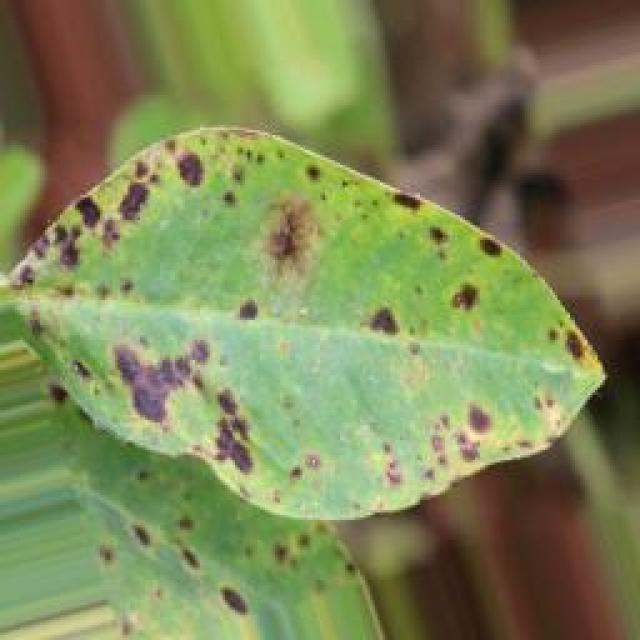Yellowish: (6, 115, 609, 640)
